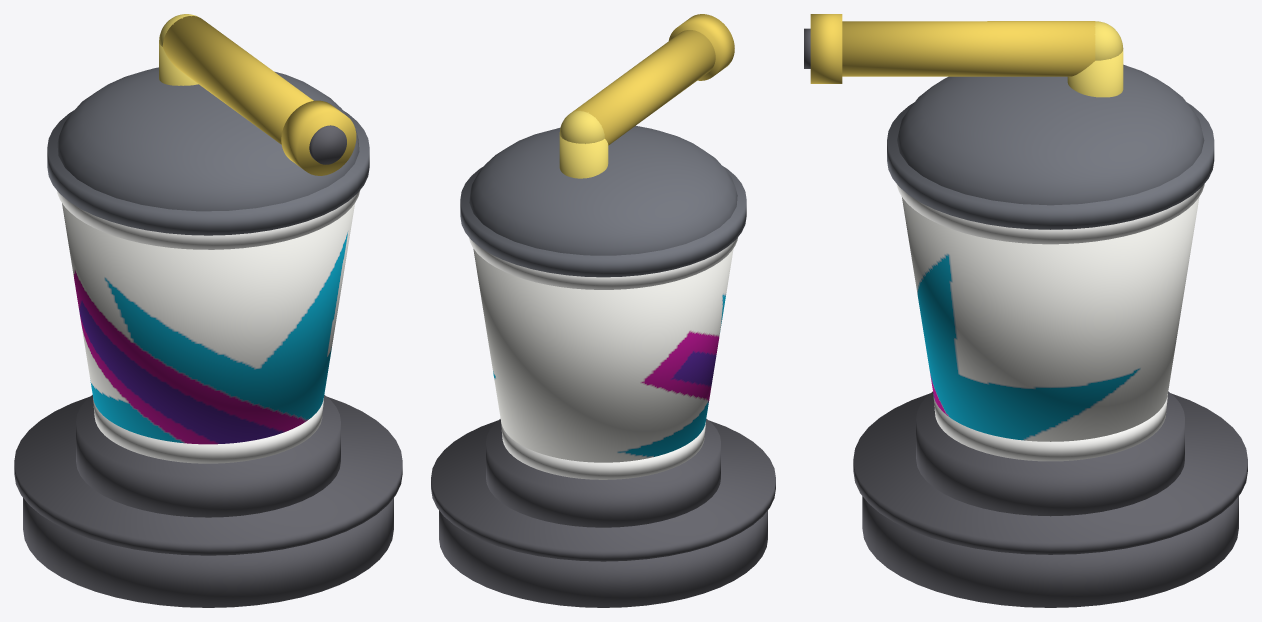
The model's file is Soda.glb.
3 views of the same model, side by side, from view 1: azimuth 30°, elevation 25°; view 2: azimuth 150°, elevation 25°; view 3: azimuth 270°, elevation 25° (orthographic). The views are drawn at different scales.
Parts seen in each view (by area): view 1: Cone, Sphere, Cylinder, pedestal, Cylinder.001, Cylinder.002, Cylinder.004, Cone.002, Cone.001, Cylinder.005, Cylinder.006, Cylinder.003; view 2: Cone, Sphere, Cylinder, pedestal, Cylinder.001, Cylinder.002, Cylinder.004, Cone.002, Cone.001, Cylinder.003, Cylinder.005, Sphere.001; view 3: Cone, Sphere, Cylinder, pedestal, Cylinder.001, Cylinder.004, Cylinder.002, Cone.002, Cone.001, Cylinder.005, Cylinder.003, Sphere.001.
Boxes of the visible parts, x1,y1,x2,y2 form: Cone: [62, 203, 354, 444]; Sphere: [57, 67, 359, 211]; Cylinder: [14, 396, 402, 555]; pedestal: [23, 498, 393, 607]; Cylinder.001: [76, 395, 340, 517]; Cylinder.002: [47, 110, 369, 235]; Cylinder.004: [162, 16, 313, 144]; Cone.002: [93, 398, 323, 463]; Cone.001: [56, 190, 360, 249]; Cylinder.005: [281, 100, 356, 175]; Cylinder.006: [309, 125, 346, 164]; Cylinder.003: [159, 41, 198, 85]; Cone: [473, 248, 733, 462]; Sphere: [469, 126, 737, 255]; Cylinder: [431, 420, 775, 561]; pedestal: [439, 510, 767, 607]; Cylinder.001: [486, 419, 720, 527]; Cylinder.002: [460, 166, 746, 277]; Cylinder.004: [570, 30, 715, 145]; Cone.002: [501, 422, 705, 479]; Cone.001: [468, 237, 737, 289]; Cylinder.003: [559, 135, 608, 178]; Cylinder.005: [668, 14, 734, 80]; Sphere.001: [559, 111, 604, 143]; Cone: [902, 197, 1199, 441]; Sphere: [897, 64, 1204, 205]; Cylinder: [853, 393, 1247, 554]; pedestal: [862, 496, 1238, 607]; Cylinder.001: [916, 391, 1184, 516]; Cylinder.004: [842, 21, 1095, 76]; Cylinder.002: [887, 102, 1214, 229]; Cone.002: [933, 394, 1167, 461]; Cone.001: [896, 184, 1204, 244]; Cylinder.005: [810, 14, 842, 83]; Cylinder.003: [1067, 49, 1123, 97]; Sphere.001: [1094, 21, 1123, 60].
Size of the model in its own units: 0.6995 by 1 by 0.787.
6 materials, 1 textured.
